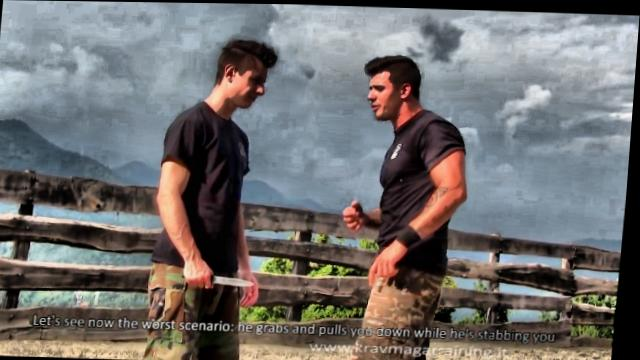knife: (186, 265, 263, 290)
